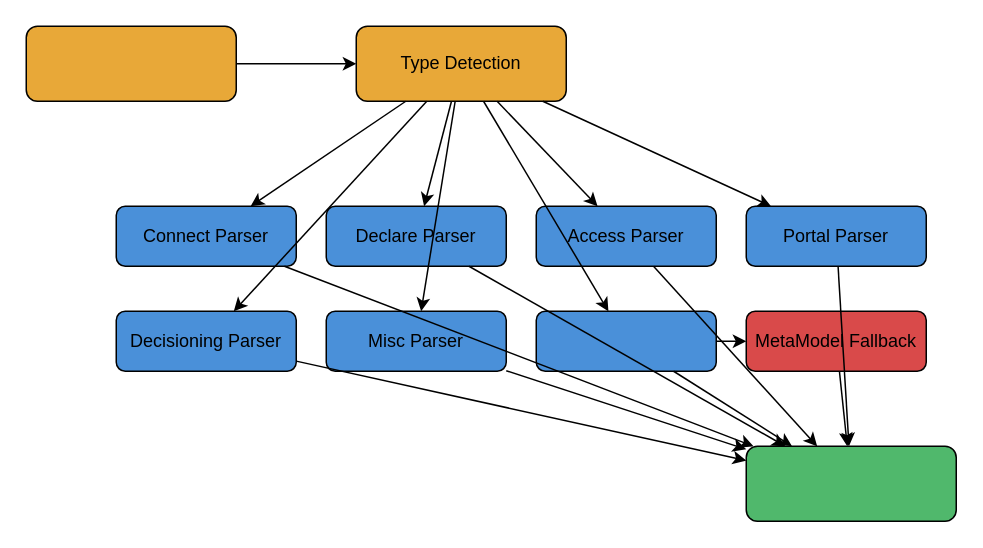
The diagram is 983 pixels wide and 548 high, and some of its shapes have lost their labels. The shapes that lost their labels are listed below. From the top down, each one's centre as x and y in pixels, then its label:
At point 130,63: "Raw Pega JSON".
At point 625,340: "Data+Process Parser".
At point 850,483: "Unified AST".
